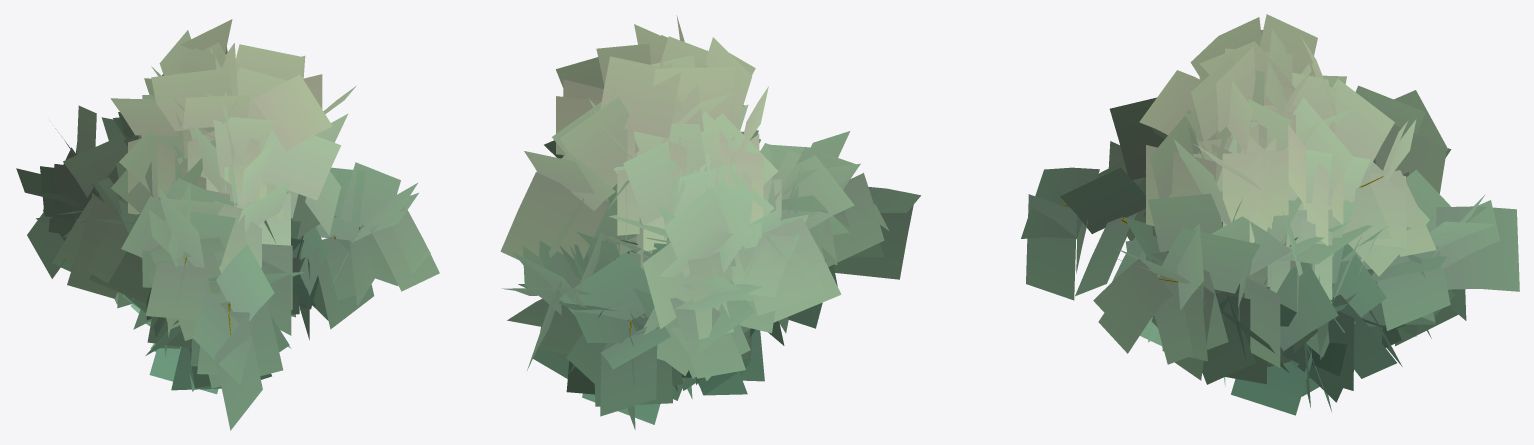
The model's file is bush_hazel.glb.
3 renders of one model, left to right at view 1: azimuth 30°, elevation 25°; view 2: azimuth 150°, elevation 25°; view 3: azimuth 270°, elevation 25°, orthographic. The views are drawn at different scales.
Visible parts, largest first — view 1: LOD0; view 2: LOD0; view 3: LOD0.
Part boxes in pixels (x1,y1,x2,y2): LOD0: (16,19,439,430); LOD0: (500,15,920,429); LOD0: (1021,14,1519,415).
Size of what is drawn, in the model's own units: 3.96 by 3.76 by 5.09.
